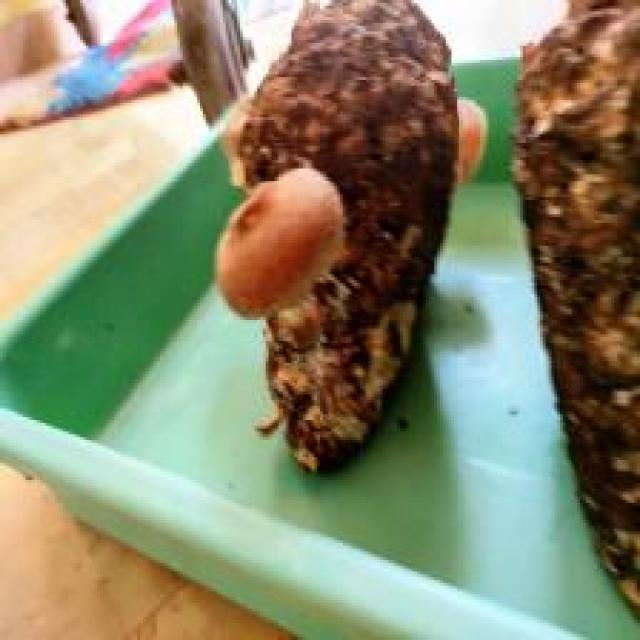chanterelle: (215, 0, 466, 474), (511, 0, 640, 637)
